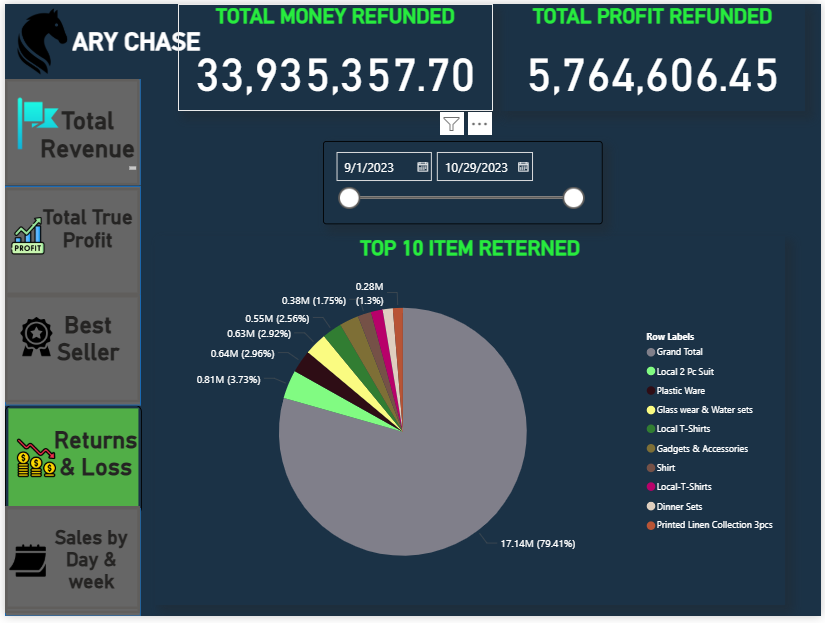

The page's visual inventory and layout, read from the dashboard file:
{"tool":"powerbi","page":{"name":"RETURNS AND LOSS","canvas":[960,720],"ordinal":3},"visuals":[{"type":"image","box":[0,0,88.4,88.4],"z":0},{"type":"textbox","title":"ARY CHASE","box":[74.6,27.6,168.8,34.4],"z":1000},{"type":"shape","box":[0,472.2,161.1,128.9],"z":2000},{"type":"shape","box":[0,88.4,159.6,125.2],"z":3000},{"type":"shape","box":[0,213.8,159.8,128.2],"z":4000},{"type":"shape","box":[0,342.2,160,130],"z":5000},{"type":"shape","box":[0,592.5,159.6,127.5],"z":6000},{"type":"textbox","title":"Total Revenue","box":[35.6,120.6,124,80.4],"z":7000},{"type":"image","box":[0,99.9,73.5,81.5],"z":8000},{"type":"textbox","title":"Total True Profit","box":[34.4,236.6,126.3,63.2],"z":9000},{"type":"image","box":[0,244.6,54,55.1],"z":10000},{"type":"textbox","title":"Best Seller","box":[31.4,361,132.1,92.9],"z":11000},{"type":"image","box":[0,360.6,73.5,62],"z":12000},{"type":"textbox","title":"Returns & Loss","box":[44.8,496.1,124,64.3],"z":13000},{"type":"image","box":[0,506.4,73.5,56.3],"z":14000},{"type":"textbox","title":"Sales by Day & week","box":[44.8,614.4,113.7,79.2],"z":15000},{"type":"image","box":[0,628.1,54,52.8],"z":16000},{"type":"actionButton","box":[0,88.4,158.5,125.2],"z":17000},{"type":"actionButton","box":[0,216,158.6,126],"z":18000},{"type":"actionButton","box":[0,592.2,158.9,120],"z":19000},{"type":"card","title":"TOTAL MONEY REFUNDED","fields":{"Values":["Sheet1 (2).Sum of NET_SALE"]},"box":[203.8,0,370,126.2],"z":20000},{"type":"card","title":"TOTAL PROFIT REFUNDED","fields":{"Values":["Sheet1 (2).Sum of Actual Profit Should be:"]},"box":[582.5,0,358.8,126.2],"z":21000},{"type":"pieChart","title":"TOP 10 ITEM RETERNED","fields":{"Category":["refund.Row Labels"],"Y":["refund.returned net sale"]},"box":[176.2,272.5,741.2,433.8],"z":22000},{"type":"actionButton","box":[0,342.5,158.8,126.2],"z":23000},{"type":"actionButton","box":[0,590,158.8,126.2],"z":24000},{"type":"slicer","fields":{"Values":["Sheet1 (2).Row Labels"]},"box":[373.8,161.2,328.8,97.5],"z":25000}]}

Visuals, with their boxes in screenshot pixels (x1, y1, x2, y2), scaled from the page's 960x720 canvas onto the 825x623 screenshot:
image: 0:0:76:76
"ARY CHASE" textbox: 64:24:209:54
shape: 0:409:138:520
shape: 0:76:137:185
shape: 0:185:137:296
shape: 0:296:138:409
shape: 0:513:137:622
"Total Revenue" textbox: 31:104:137:174
image: 0:86:63:157
"Total True Profit" textbox: 30:205:138:259
image: 0:212:46:259
"Best Seller" textbox: 27:312:141:393
image: 0:312:63:366
"Returns & Loss" textbox: 38:429:145:485
image: 0:438:63:487
"Sales by Day & week" textbox: 38:532:136:600
image: 0:543:46:589
actionButton: 0:76:136:185
actionButton: 0:187:136:296
actionButton: 0:512:137:616
"TOTAL MONEY REFUNDED" card: 175:0:493:109
"TOTAL PROFIT REFUNDED" card: 501:0:809:109
"TOP 10 ITEM RETERNED" pieChart: 151:236:788:611
actionButton: 0:296:136:406
actionButton: 0:511:136:620
slicer - Sheet1 (2).Row Labels: 321:139:604:224
